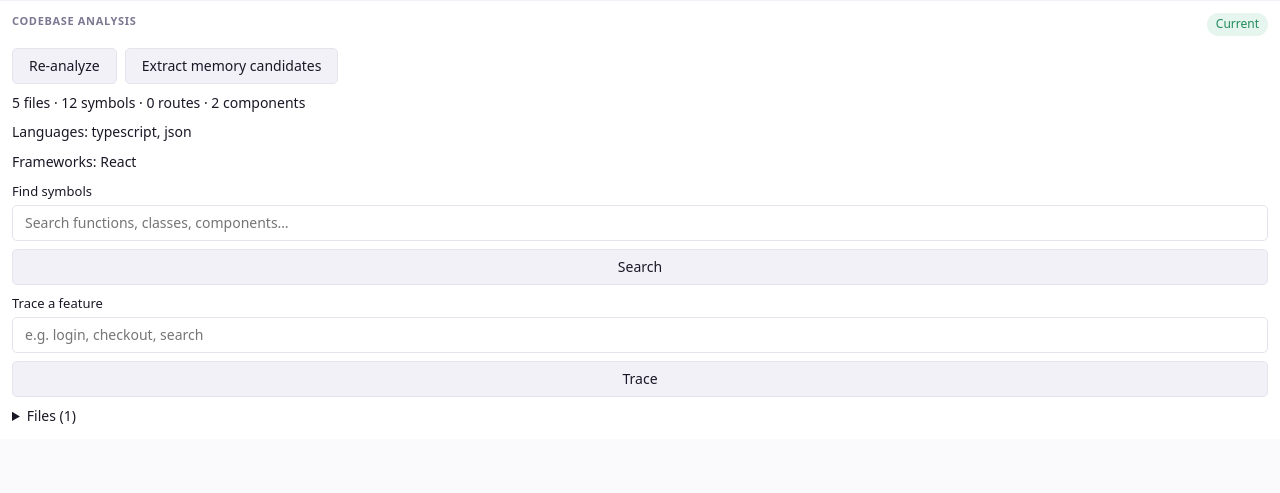
Test: CodebasePanel - search and trace › traces a feature into node evidence
Expected: the text "Current" is shown, [1207, 13, 1268, 36]
Type "login form" into the field labelled "Trace a feature" at (640, 335), box [25, 324, 1255, 346]
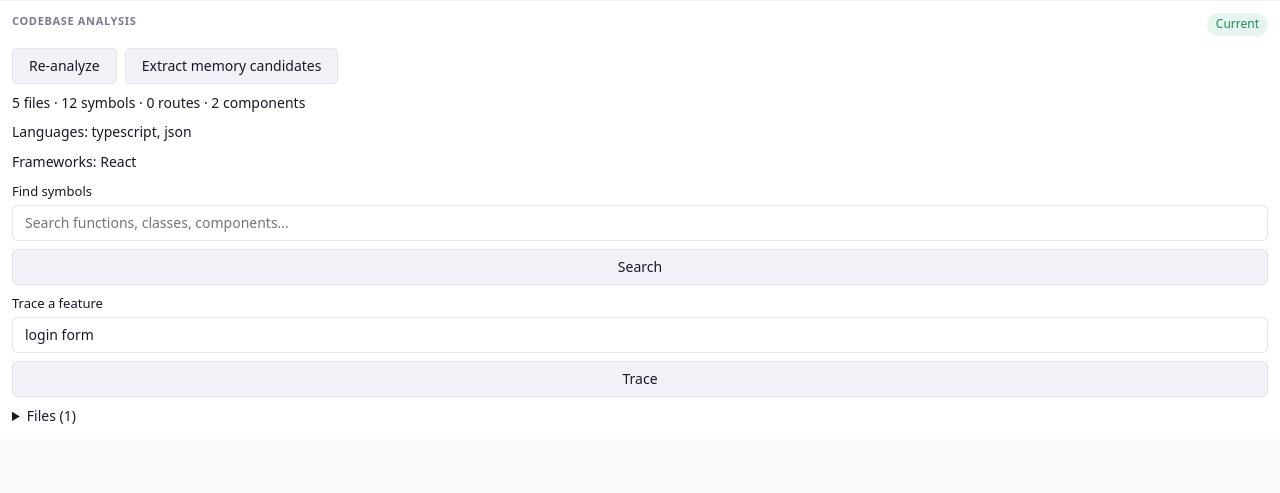
Click the button "Trace" at (640, 379), box [12, 361, 1268, 397]
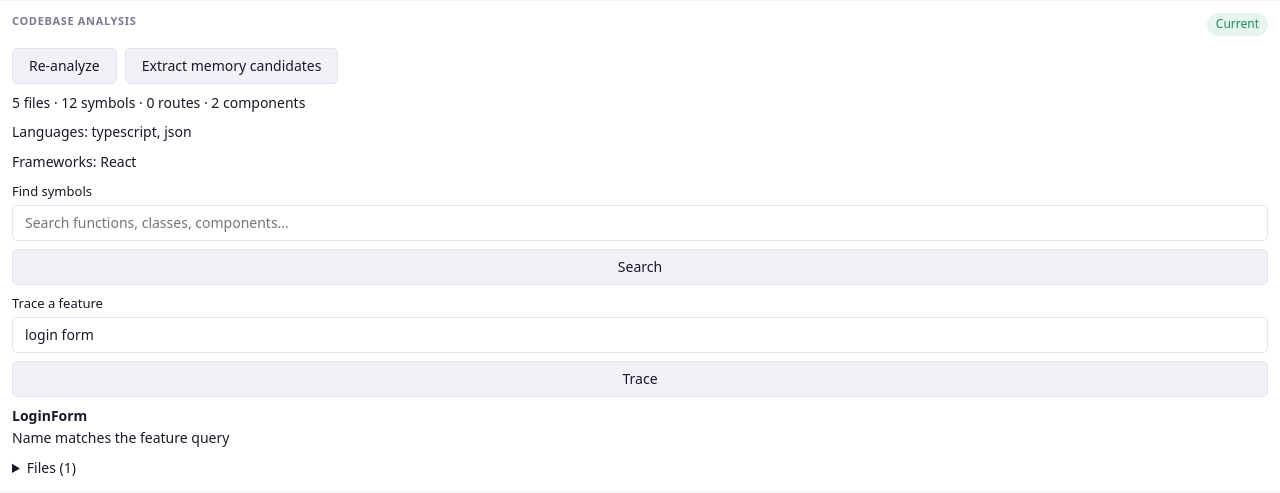
Result: the text "Name matches the feature query" is shown at [12, 428, 229, 447]
